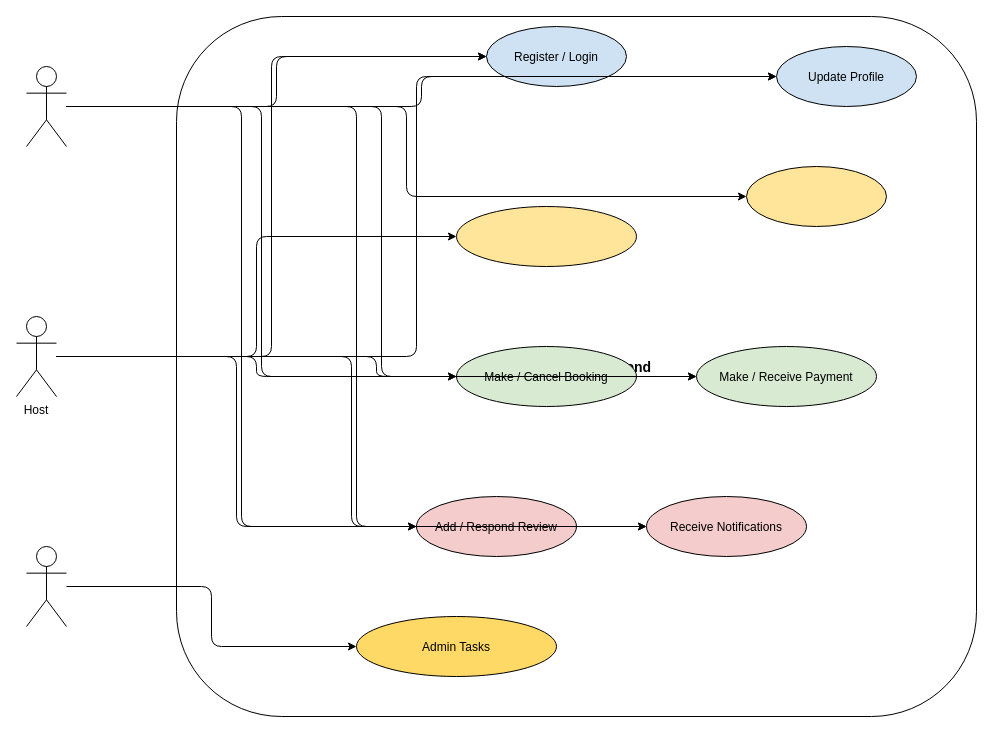
This 993x733 diagram has some shape labels left out. The centre of each missing label's shape, as x and y in pixels:
Add / Edit / Delete Property: pixel 546 236
Admin: pixel 46 586
Guest: pixel 46 106
Search Properties: pixel 816 196
